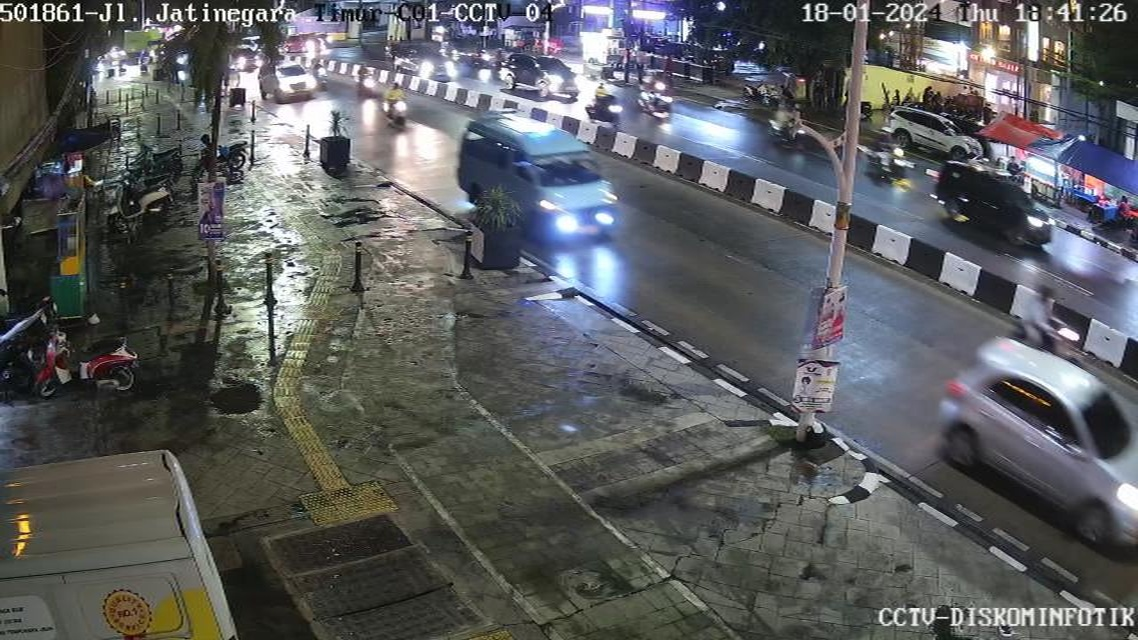Gerobak: (30, 187, 128, 344)
